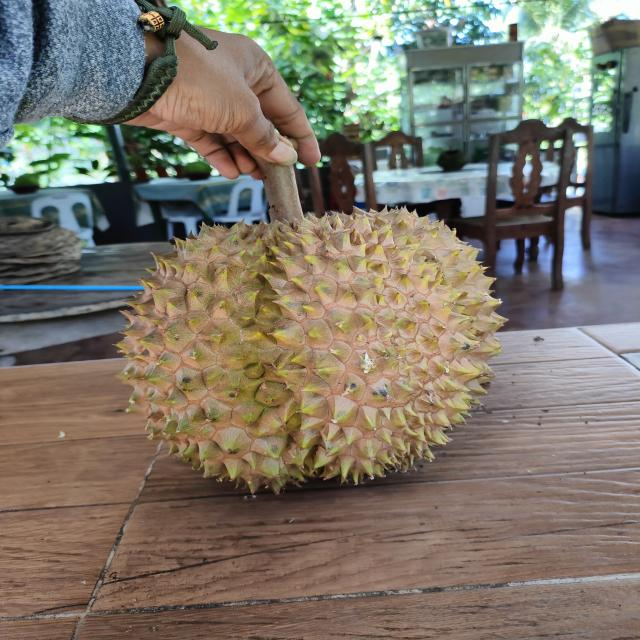mature: (113, 213, 510, 490)
